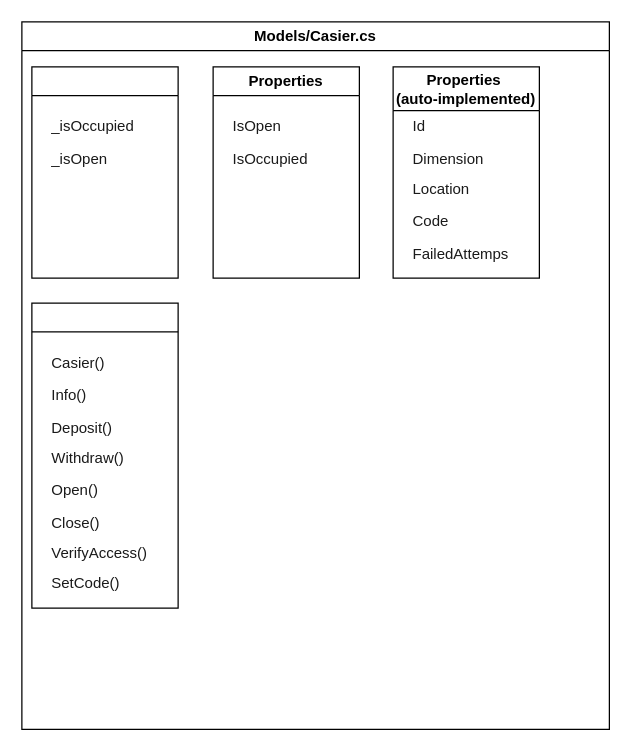
This 631x751 diagram has some shape labels left out. Each missing label, with the box of its shape:
Fields: (31, 66, 178, 278)
Member Methods: (31, 302, 178, 608)
